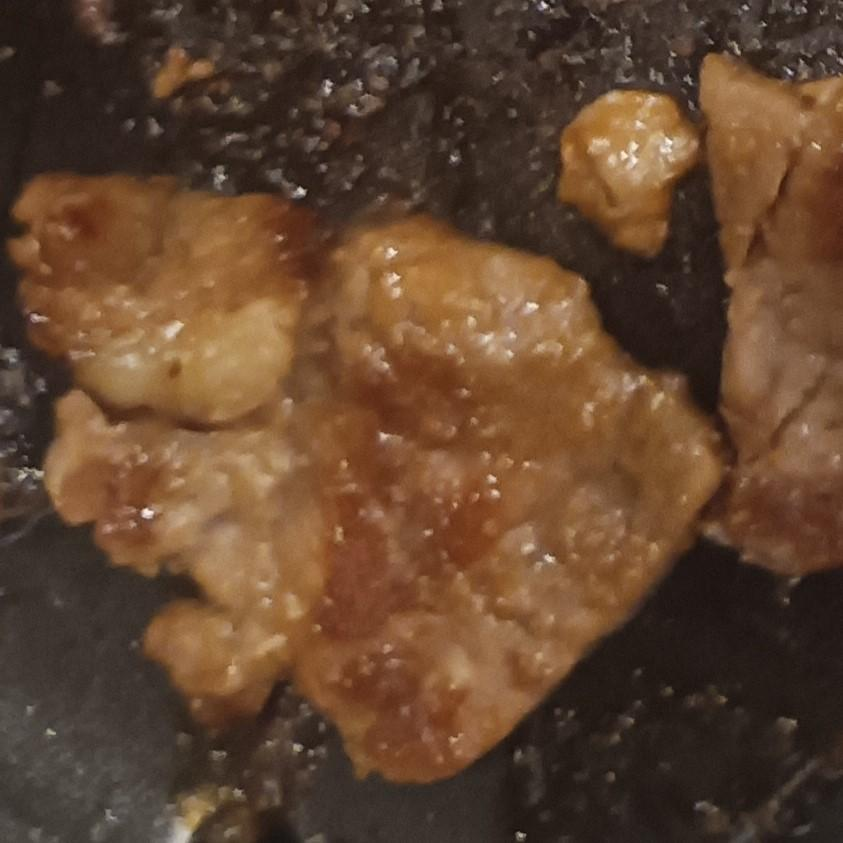Well-Cooked: (9, 174, 719, 787), (700, 53, 842, 581)
